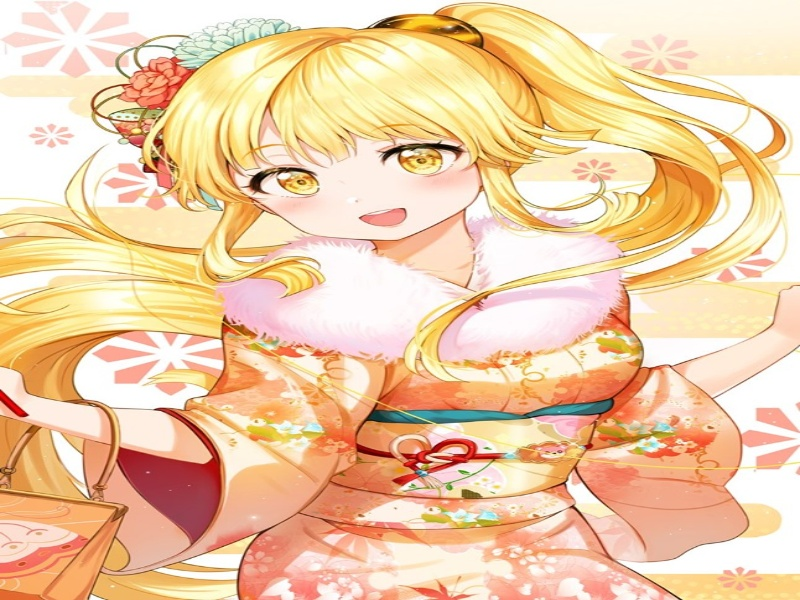dress: (153, 251, 748, 600)
flower: (160, 12, 312, 64), (109, 40, 201, 119)
person: (157, 19, 600, 262)
